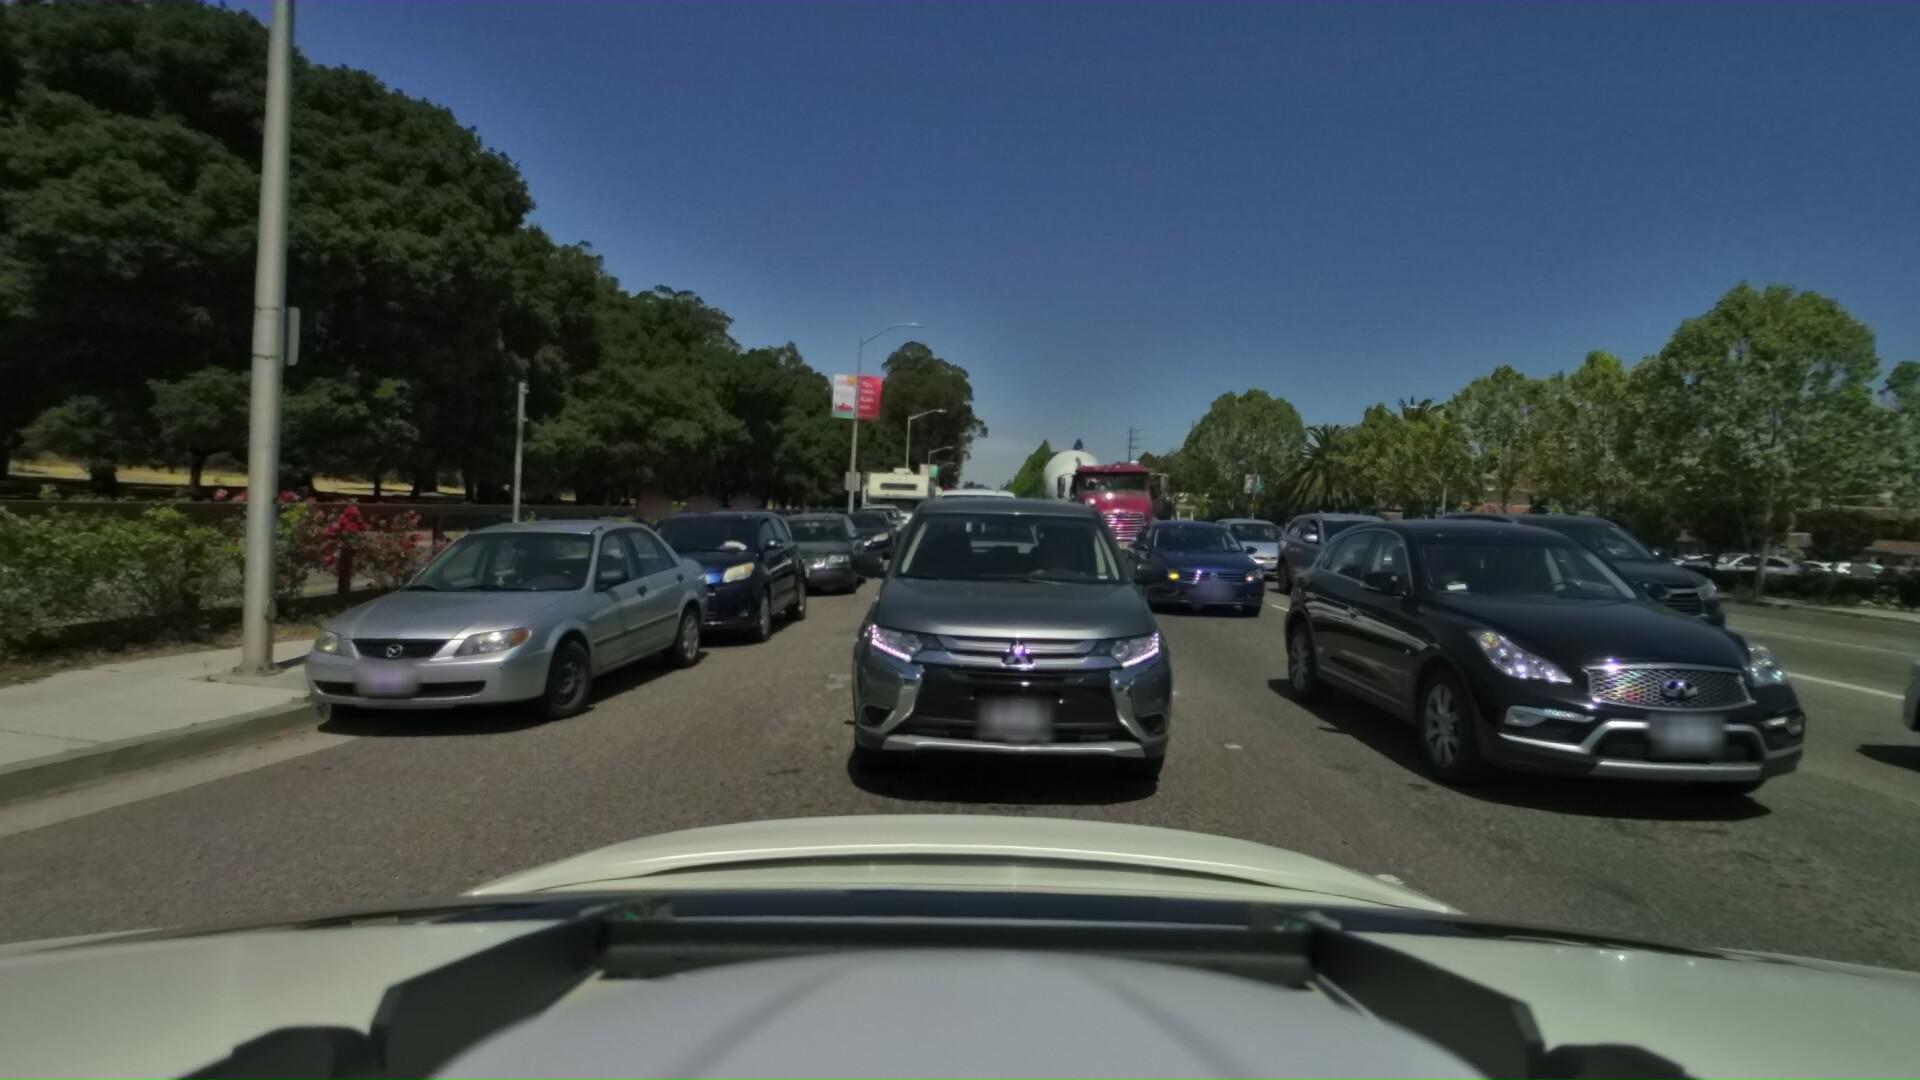car: (1257, 504, 1870, 840), (798, 454, 1218, 836), (264, 510, 717, 746), (1382, 497, 1749, 678), (1815, 518, 1920, 1056), (599, 501, 814, 647), (899, 484, 1034, 622), (1262, 502, 1437, 607), (1113, 512, 1276, 622), (753, 506, 868, 597), (918, 476, 1027, 571), (1182, 506, 1303, 576), (1671, 542, 1801, 584), (847, 487, 913, 550), (831, 500, 901, 556), (1553, 533, 1662, 568)
other_vehicle: (1025, 414, 1188, 575), (853, 444, 942, 543), (1025, 425, 1109, 514)
